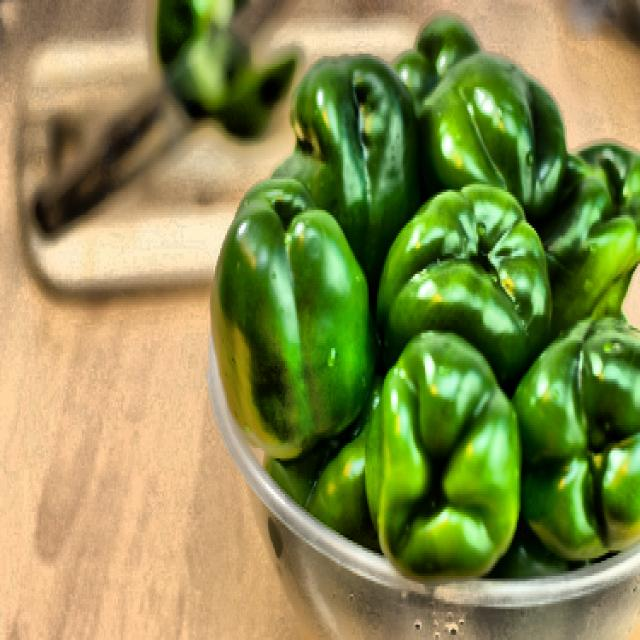capsicum: (212, 154, 383, 492)
